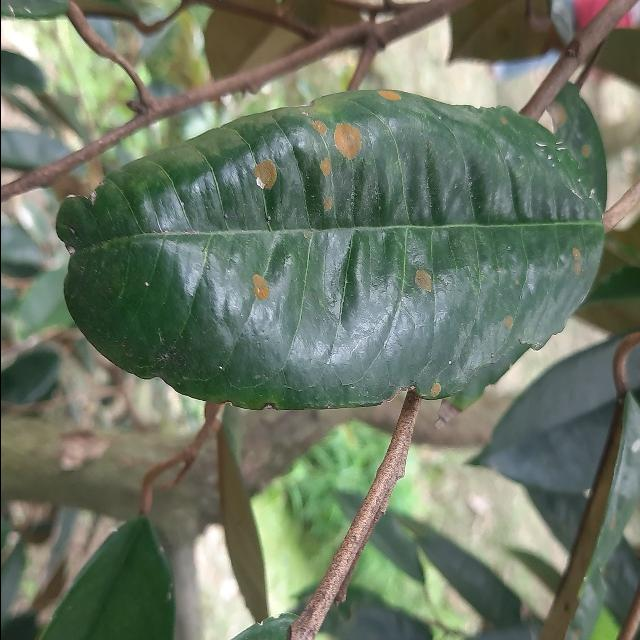Algal Leaf Spot: (52, 87, 607, 407)
